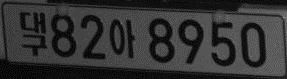0: (240, 21, 266, 67)
2: (79, 13, 106, 59)
5: (210, 20, 236, 67)
8: (147, 17, 175, 63), (50, 12, 77, 58)
9: (177, 18, 205, 64)
대구_V: (18, 10, 47, 57)
아: (108, 18, 135, 58)
